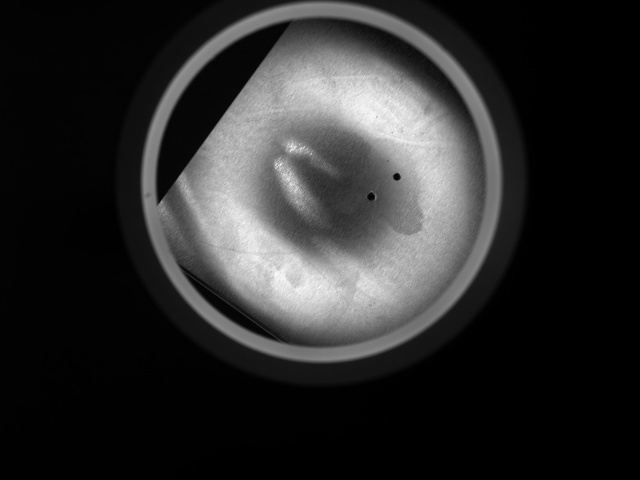zhen_kong: (365, 189, 379, 204), (391, 172, 403, 184)
